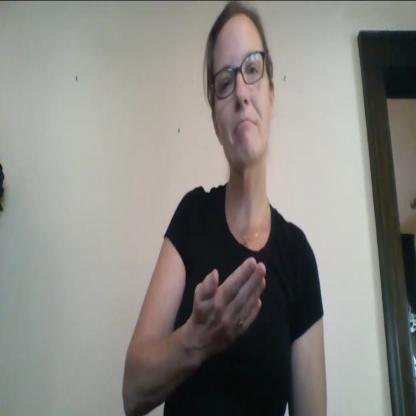ThankYou: (169, 4, 291, 382)
